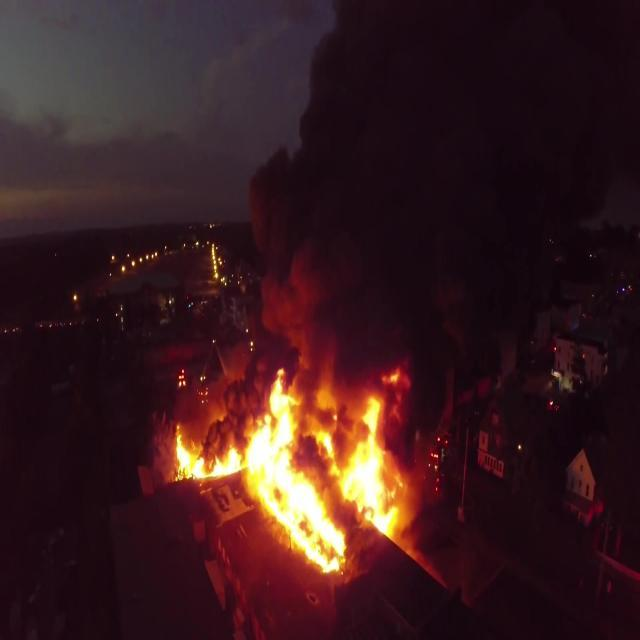Fire: (178, 364, 393, 584)
Smoke: (242, 1, 634, 384)
